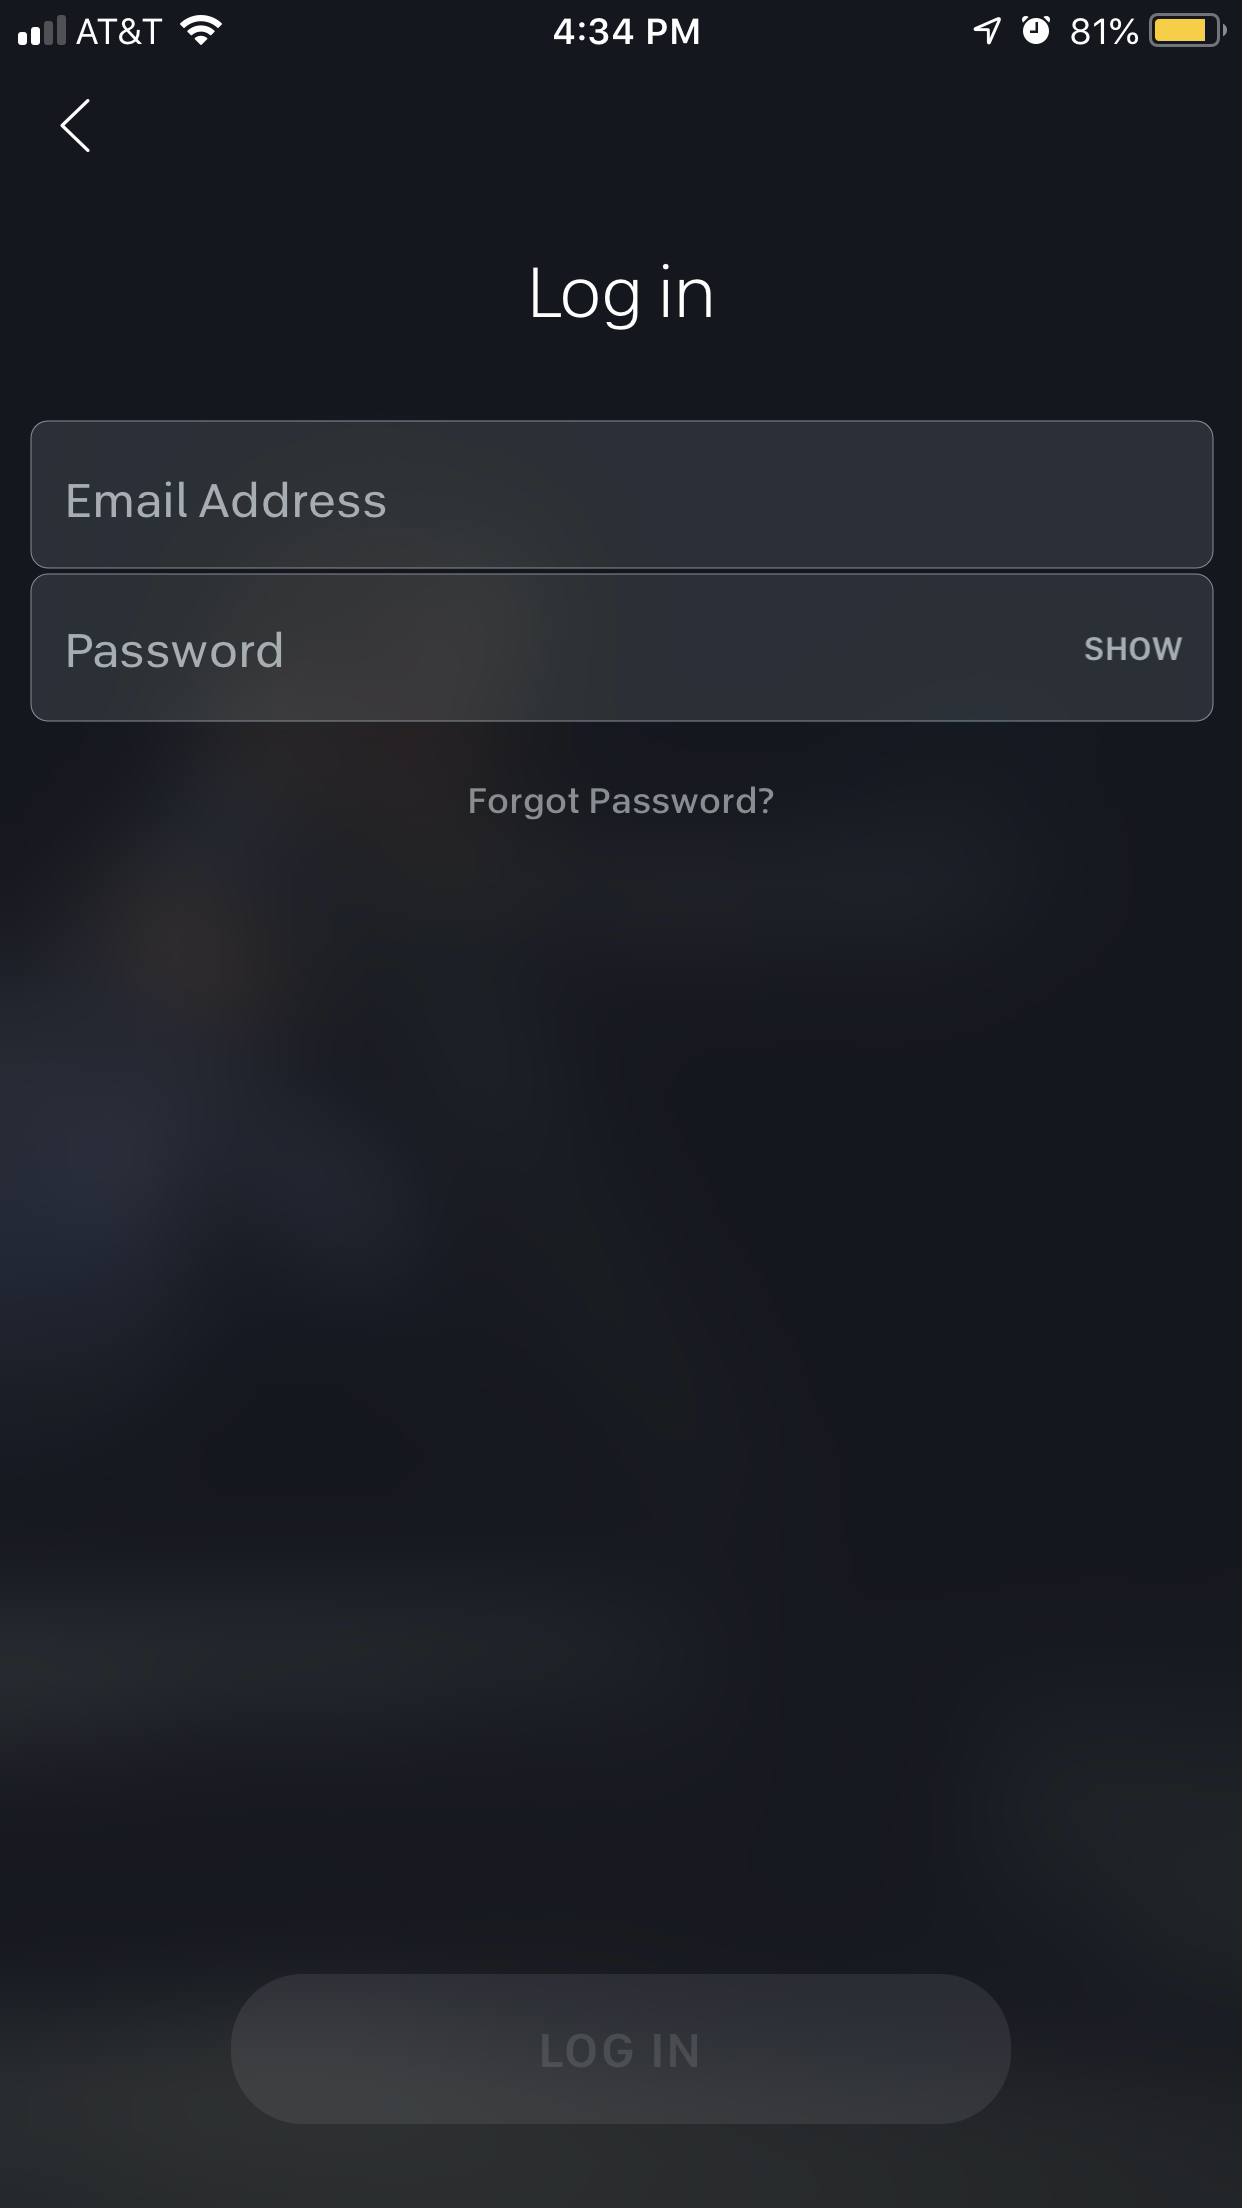EditText: (30, 420, 1215, 570), (30, 573, 1215, 723)
Icon: (61, 99, 93, 155)
Text: (531, 264, 713, 332), (68, 481, 387, 519), (470, 786, 775, 820), (70, 631, 284, 669), (1081, 635, 1181, 663)
TextButton: (231, 1973, 1011, 2125)
UpperTaskBar: (2, 2, 1242, 49)
